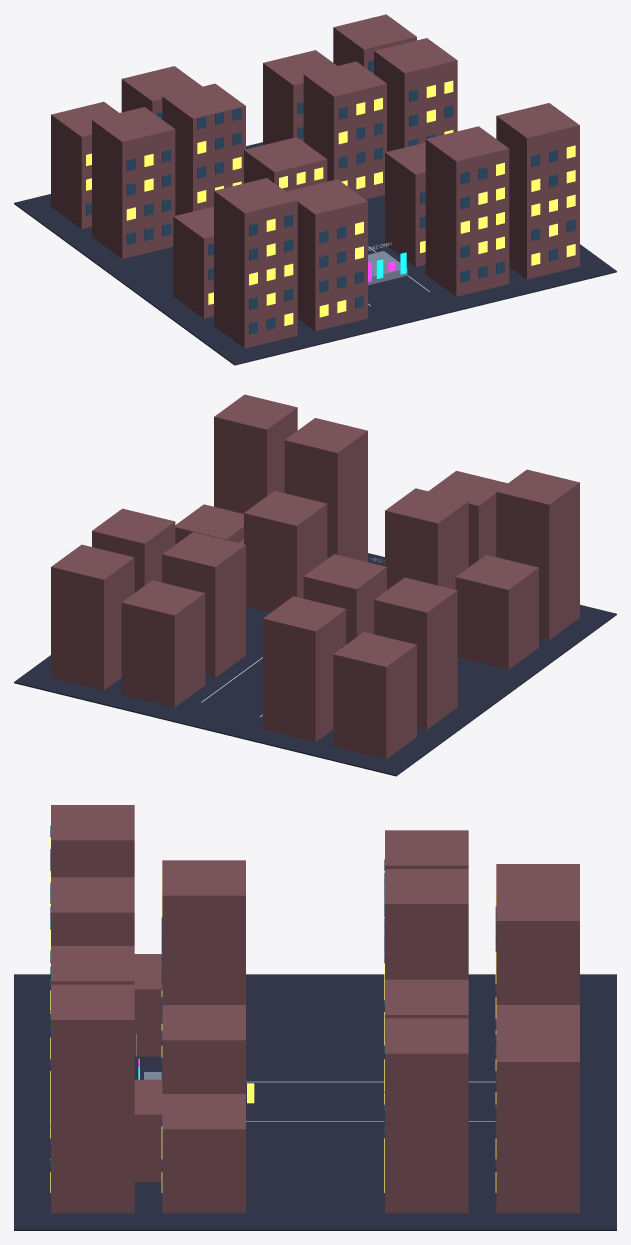
File: soundlabs_district.glb
3 renders of one model, top to bottom at view 1: azimuth 30°, elevation 25°; view 2: azimuth 150°, elevation 25°; view 3: azimuth 270°, elevation 25°, orthographic. The views are drawn at different scales.
Visible parts, largest first — view 1: street, apartment_12_-24, apartment_-24_-24, apartment_24_-24, apartment_-24_12, apartment_-12_-24, apartment_12_12, apartment_-12_12, apartment_24_12, apartment_-24_24, apartment_12_-12, apartment_-24_-12 (+5 smaller); view 2: street, apartment_-24_-24, apartment_24_24, apartment_-12_24, apartment_12_24, apartment_-24_24, apartment_12_-24, apartment_-24_-12, apartment_12_-12, apartment_-24_12, apartment_24_-24, apartment_12_12 (+5 smaller); view 3: street, apartment_24_-24, apartment_24_12, apartment_24_24, apartment_-12_-12, apartment_-12_24, apartment_24_-12, apartment_-12_12, apartment_12_-12, apartment_-24_-24, apartment_-12_-24, apartment_12_12 (+6 smaller).
Part boxes in pixels (x1,y1,x2,y2): street: (14,142,616,365); apartment_12_-24: (425,126,509,296); apartment_-24_-24: (214,178,297,348); apartment_24_-24: (496,103,579,279); apartment_-24_12: (92,107,175,258); apartment_-12_-24: (286,179,367,331); apartment_12_12: (303,61,386,199); apartment_-12_12: (162,83,245,215); apartment_24_12: (374,38,457,151); apartment_-24_24: (51,101,118,229); apartment_12_-12: (385,142,425,266); apartment_-24_-12: (173,206,213,318); street: (14,553,616,776); apartment_-24_-24: (496,469,579,639); apartment_24_24: (51,544,134,690); apartment_-12_24: (263,596,346,742); apartment_12_24: (121,580,205,707); apartment_-24_24: (333,632,416,759); apartment_12_-24: (284,418,367,562); apartment_-24_-12: (455,554,538,669); apartment_12_-12: (244,491,327,611); apartment_-24_12: (374,577,457,729); apartment_24_-24: (214,394,297,513); apartment_12_12: (162,532,245,677); street: (14,974,616,1230); apartment_24_-24: (51,984,134,1213); apartment_24_12: (385,1018,468,1213); apartment_24_24: (496,1026,579,1213); apartment_-12_-12: (162,860,245,1004); apartment_-12_24: (496,885,579,1004); apartment_24_-12: (162,1094,245,1213); apartment_-12_12: (385,869,468,979); apartment_12_-12: (162,1005,245,1093); apartment_-24_-24: (51,805,134,877); apartment_-12_-24: (51,877,134,945); apartment_12_12: (385,979,468,1018).
Size of the model in its own units: 65 by 23.22 by 65.
